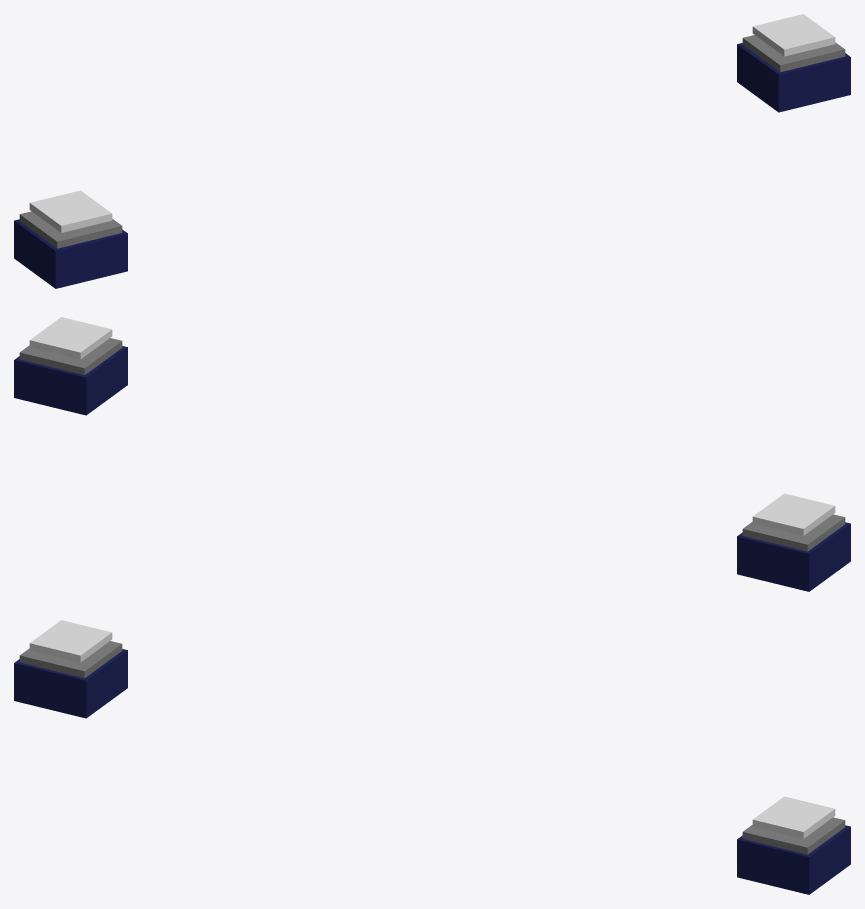
File: progressMarker1.fbx
3 views of the same model, one above another, from view 1: azimuth 30°, elevation 25°; view 2: azimuth 150°, elevation 25°; view 3: azimuth 330°, elevation 25° (orthographic).
Parts seen in each view (by area): view 1: Box002, Marker; view 2: Box002, Marker; view 3: Box002, Marker.
Part boxes in pixels (<box>): Box002: <box>14,35,850,288</box>; Marker: <box>29,14,835,232</box>; Box002: <box>14,338,850,591</box>; Marker: <box>29,317,835,535</box>; Box002: <box>14,641,850,894</box>; Marker: <box>29,620,835,838</box>.
Bounding box in the file's own units: 22 × 1.5 × 2.
